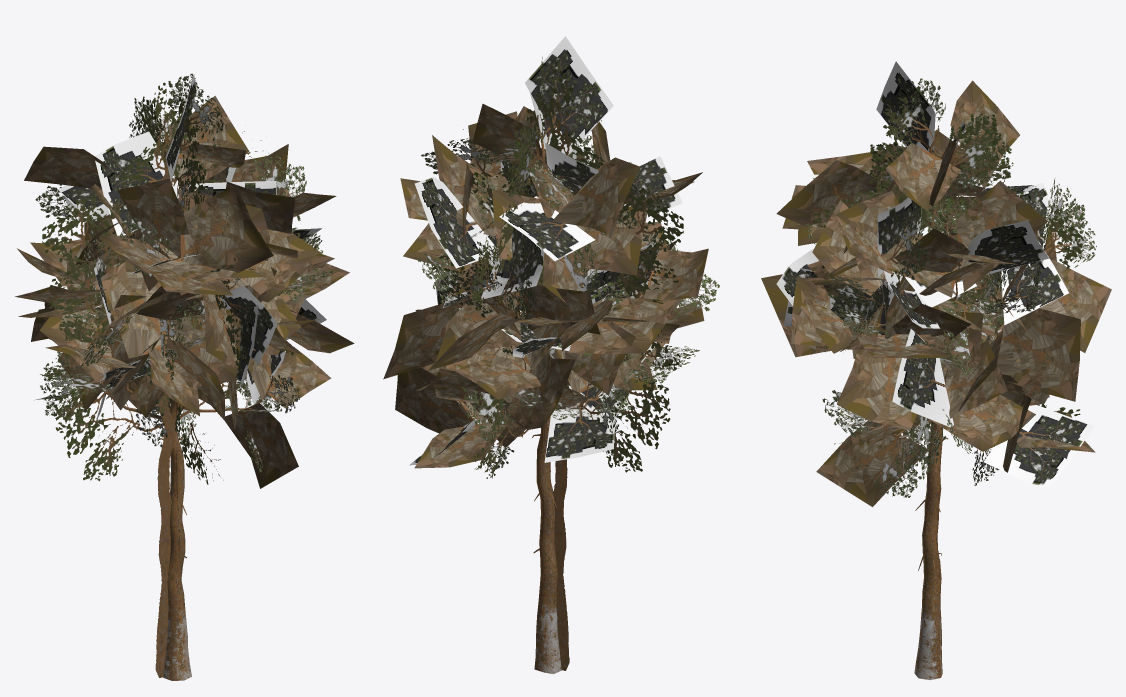
Rendered from Pine5.fbx.
3 views of the same model, side by side, from view 1: azimuth 30°, elevation 25°; view 2: azimuth 150°, elevation 25°; view 3: azimuth 270°, elevation 25° (orthographic).
Parts seen in each view (by area): view 1: LOD0, Billboard; view 2: LOD0, Billboard; view 3: LOD0, Billboard.
Part boxes in pixels (x1=…): LOD0: x1=15, y1=73, x2=354, y2=680; Billboard: x1=42, y1=81, x2=268, y2=677; LOD0: x1=383, y1=36, x2=719, y2=674; Billboard: x1=430, y1=59, x2=683, y2=670; LOD0: x1=761, y1=61, x2=1111, y2=680; Billboard: x1=794, y1=79, x2=1099, y2=585.
Size of what is drawn, in the model's own units: 646 by 1263 by 655.
